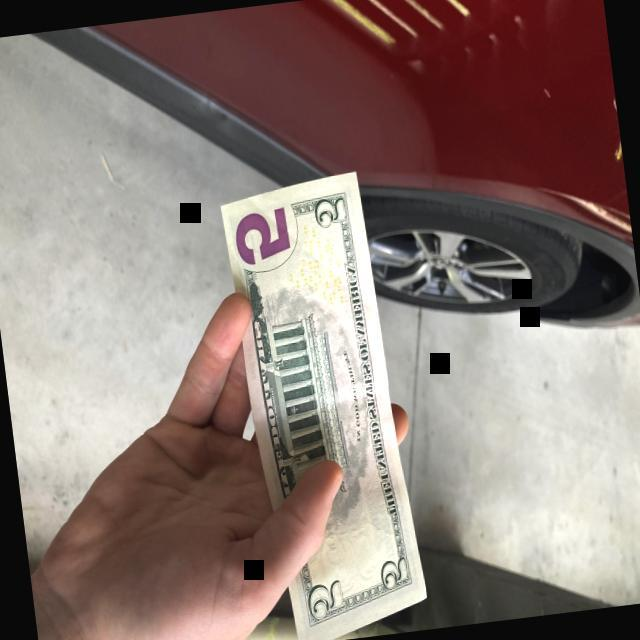five: (218, 170, 426, 640)
